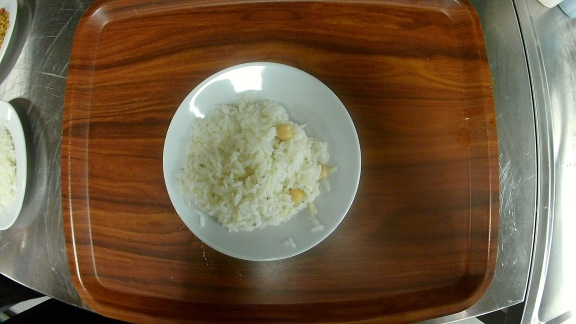nohutlupilav: (162, 63, 362, 263)
